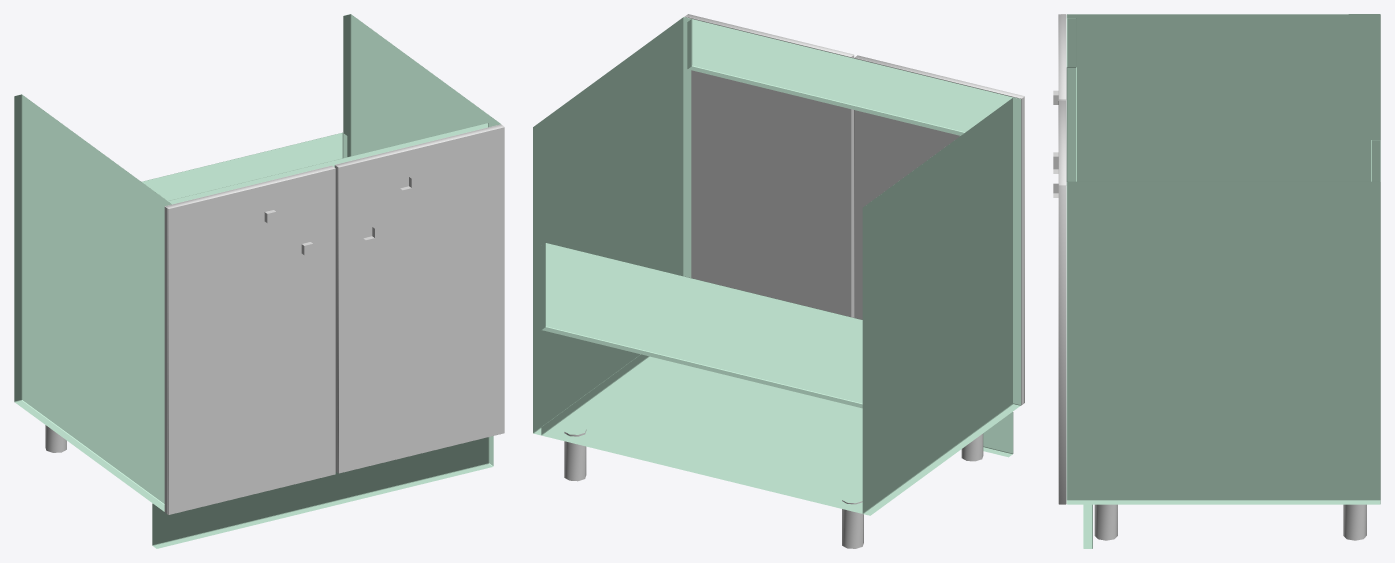
3 views of the same model, side by side, from view 1: azimuth 30°, elevation 25°; view 2: azimuth 150°, elevation 25°; view 3: azimuth 270°, elevation 25° (orthographic). The views are drawn at different scales.
Parts seen in each view (by area): view 1: M_1CL_6, M_1CL_1_F.007, M_1CL_1_F.008, M_1CL_1_F_C.007, M_1CL_1_F_C.008; view 2: M_1CL_6, M_1CL_1_F_B.008, M_1CL_1_F_A.008, M_1CL_1_F_A.007, Legs.005, M_1CL_1_F_C.007, M_1CL_1_F.007, M_1CL_1_F_B.007, M_1CL_1_F.008, M_1CL_1_F_C.008; view 3: M_1CL_6, M_1CL_1_F.008, Legs.005, M_1CL_1_F.007.
Boxes of the visible parts, box(x1,y1,x2,y2) form: M_1CL_6: box(14, 14, 500, 548); M_1CL_1_F.007: box(166, 166, 335, 514); M_1CL_1_F.008: box(336, 124, 504, 473); M_1CL_1_F_C.007: box(164, 207, 167, 513); M_1CL_1_F_C.008: box(334, 165, 337, 472); M_1CL_6: box(533, 17, 1021, 515); M_1CL_1_F_B.008: box(768, 37, 853, 316); M_1CL_1_F_A.008: box(685, 16, 852, 296); M_1CL_1_F_A.007: box(854, 58, 1022, 319); Legs.005: box(564, 429, 983, 548); M_1CL_1_F_C.007: box(1021, 97, 1024, 404); M_1CL_1_F.007: box(854, 55, 1024, 402); M_1CL_1_F_B.007: box(938, 78, 1023, 405); M_1CL_1_F.008: box(685, 14, 854, 57); M_1CL_1_F_C.008: box(693, 56, 853, 317); M_1CL_6: box(1066, 14, 1380, 548); M_1CL_1_F.008: box(1058, 100, 1066, 504); Legs.005: box(1094, 504, 1366, 540); M_1CL_1_F.007: box(1058, 14, 1066, 100).
Bounding box in the file's own units: 8.7 × 8.65 × 7.02.
